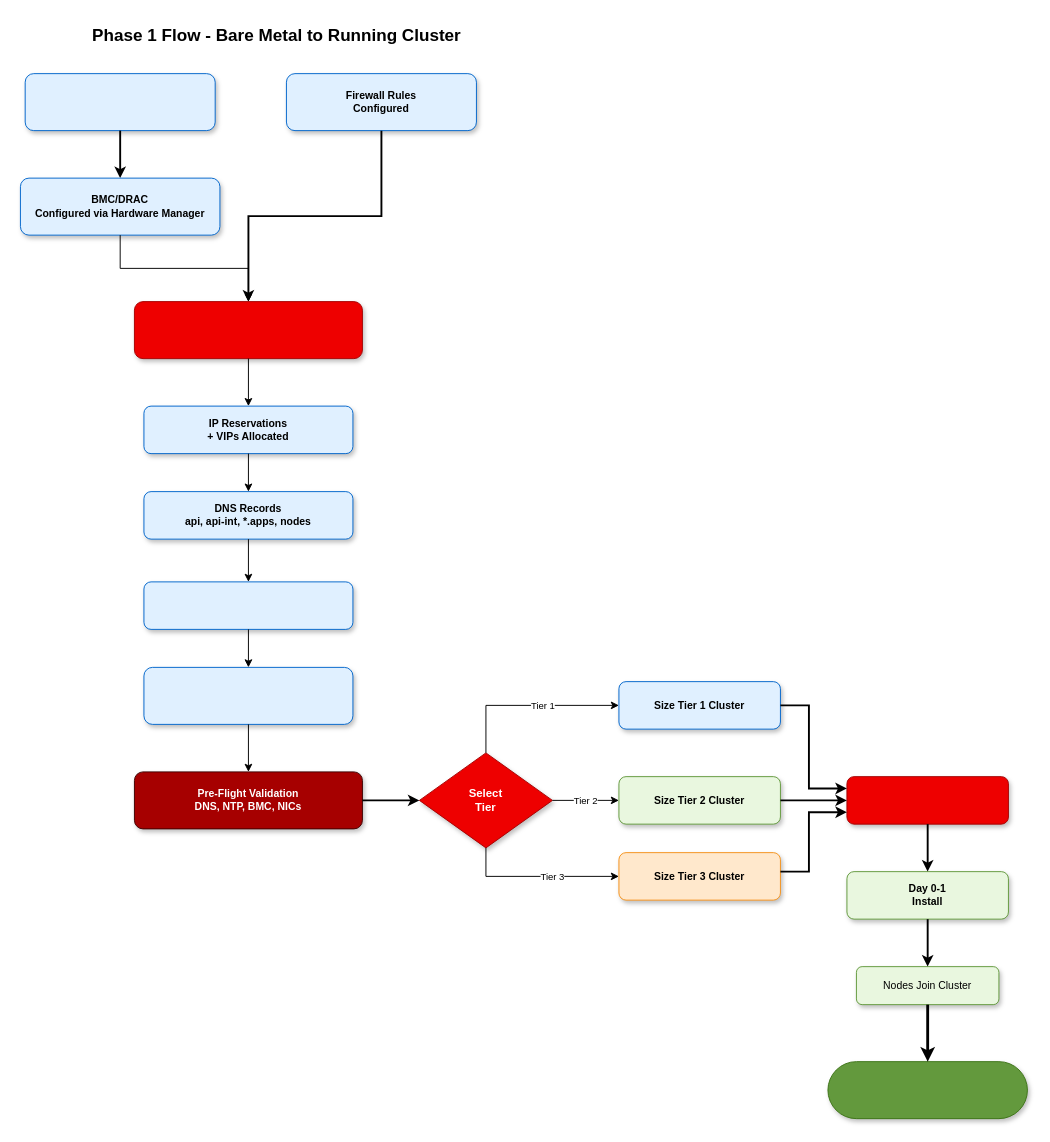
This 1050x1142 diagram has some shape labels left out. Each missing label, with the centre of its shape:
"ACM ZTP Install" belongs at (x=928, y=801).
"Gate 1 Cluster API Reachable" belongs at (x=928, y=1091).
"Get Certificates API + Ingress TLS" belongs at (x=120, y=103).
"Hardware Provisioning Hardware Manager Server Profiles" belongs at (x=249, y=331).
"Network Fabric Mgmt, Storage, Migration, FC, Switch Zoning" belongs at (x=249, y=697).
"VIP Config keepalived/haproxy" belongs at (x=249, y=606).
